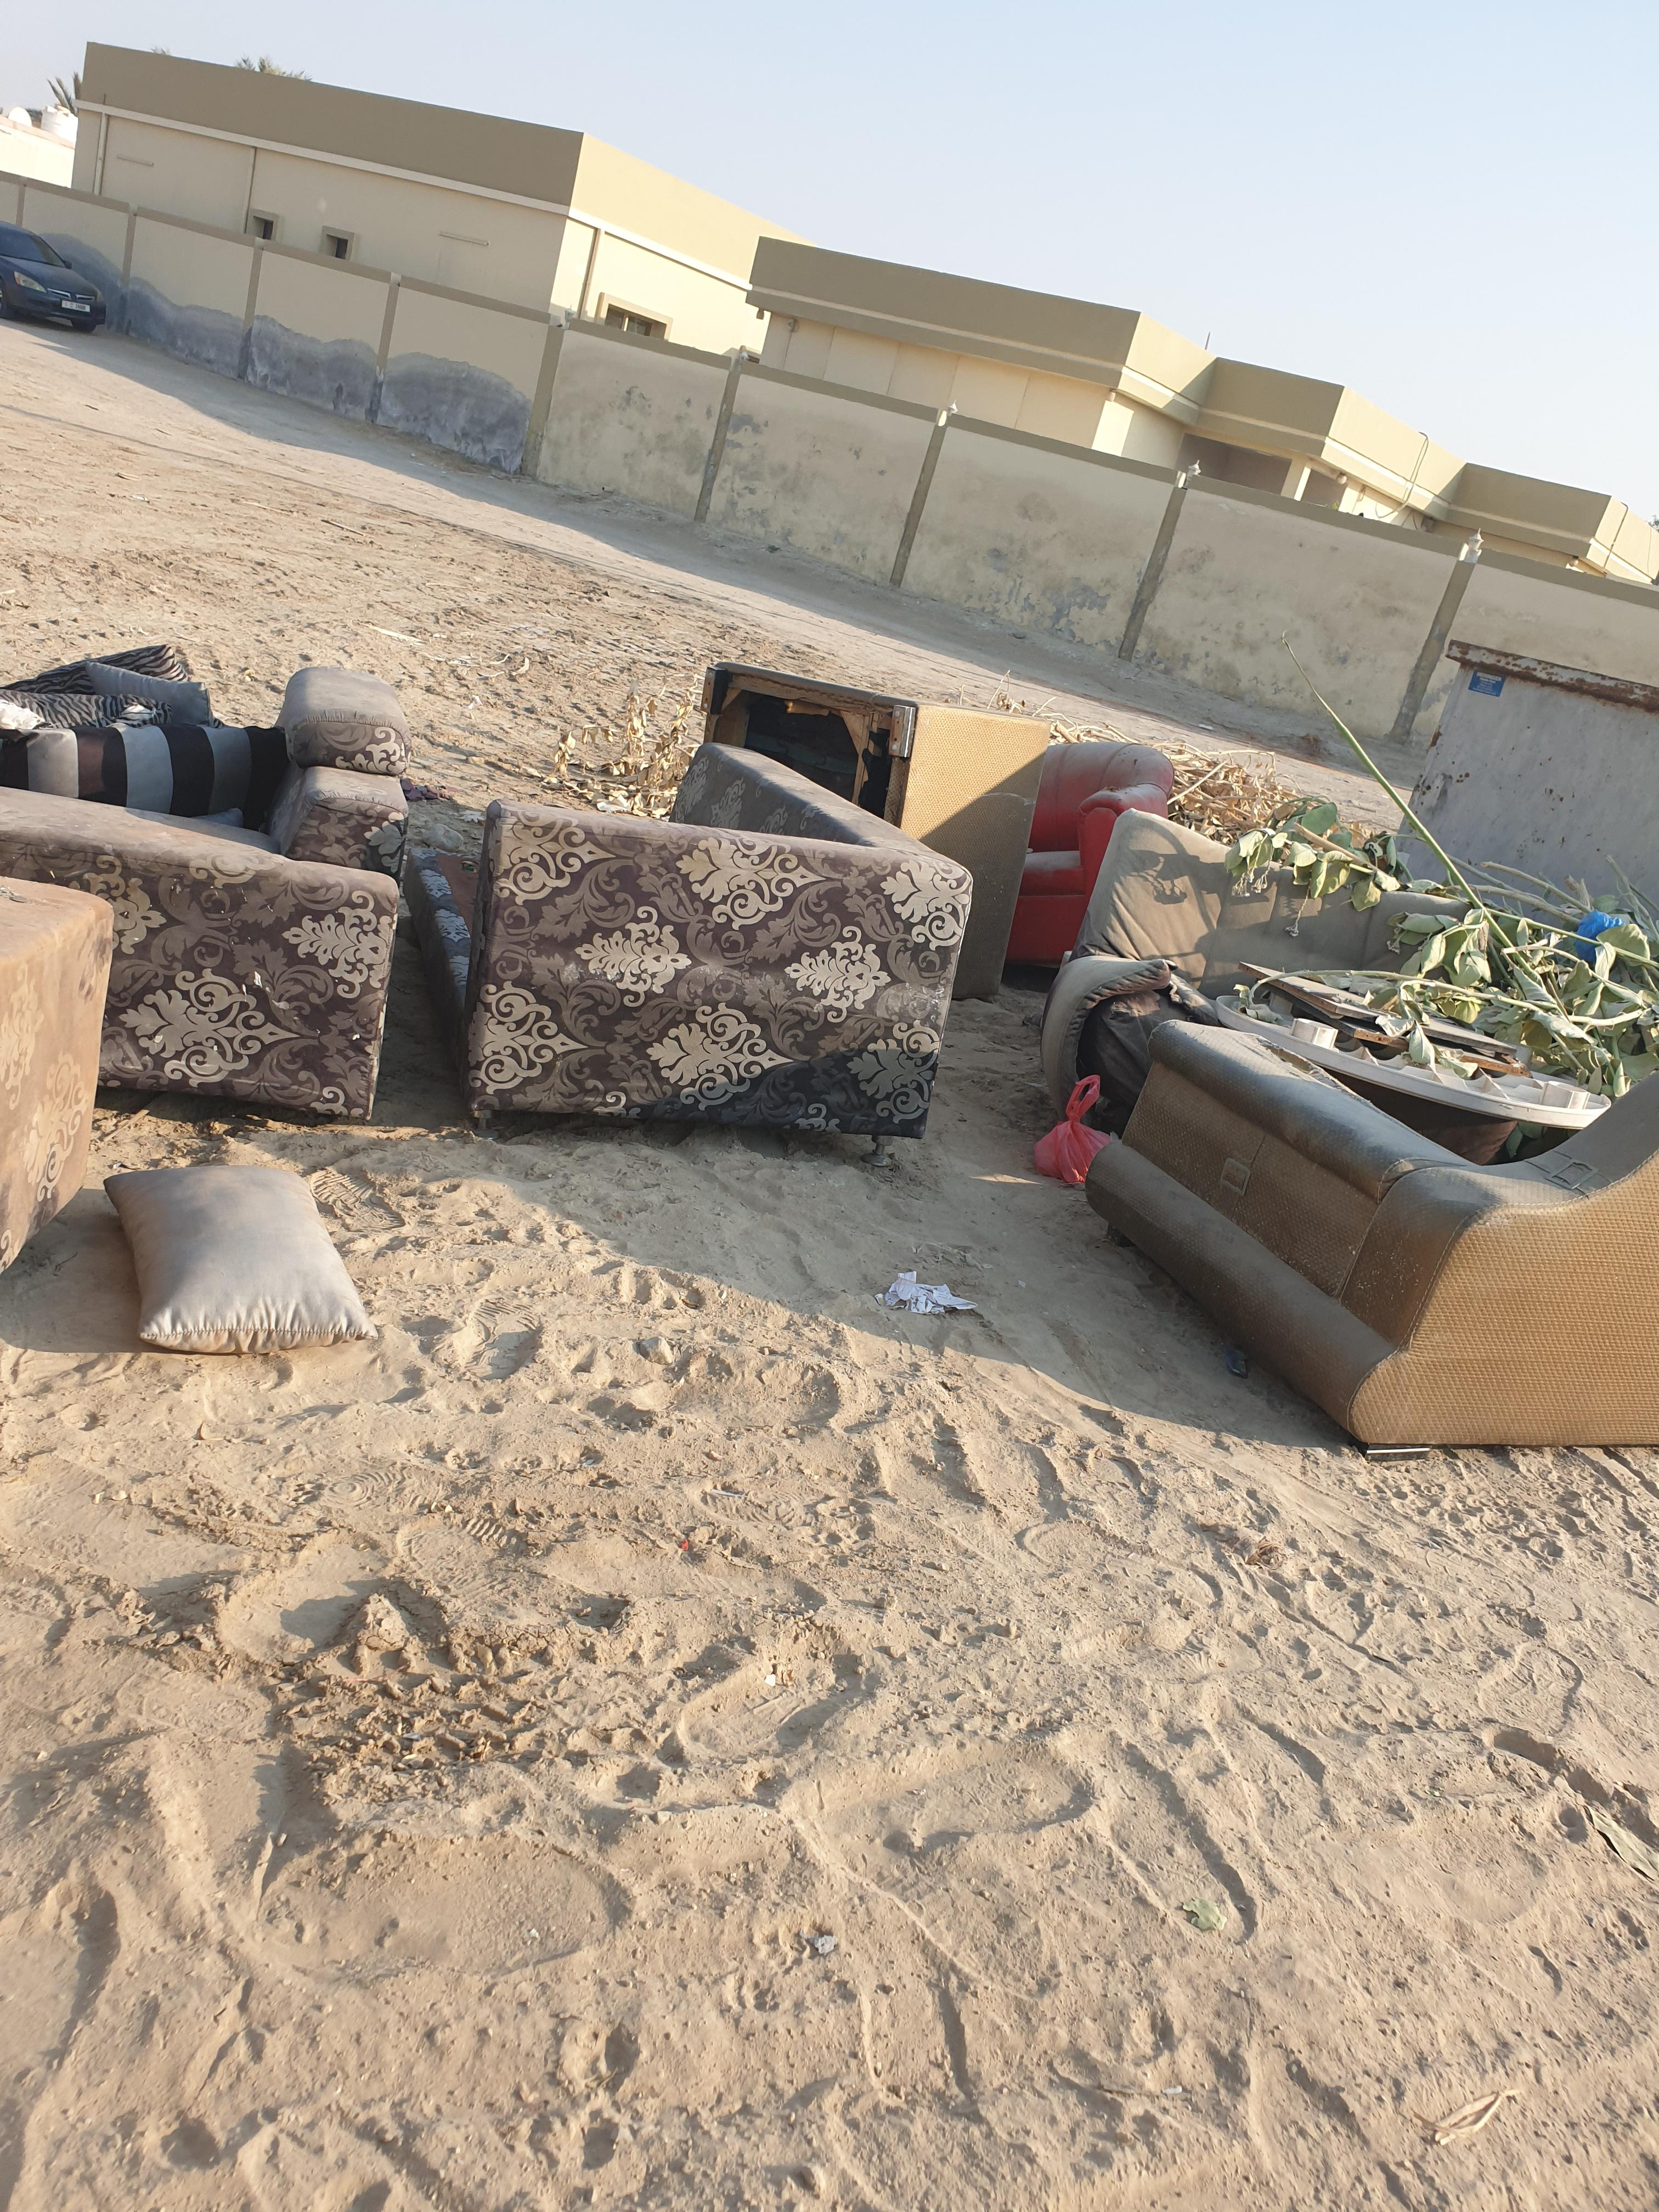uncollected_waste: (33, 564, 479, 1179), (528, 773, 962, 1169), (1098, 996, 1473, 1426), (1249, 1071, 1561, 1571), (652, 625, 1108, 918)
